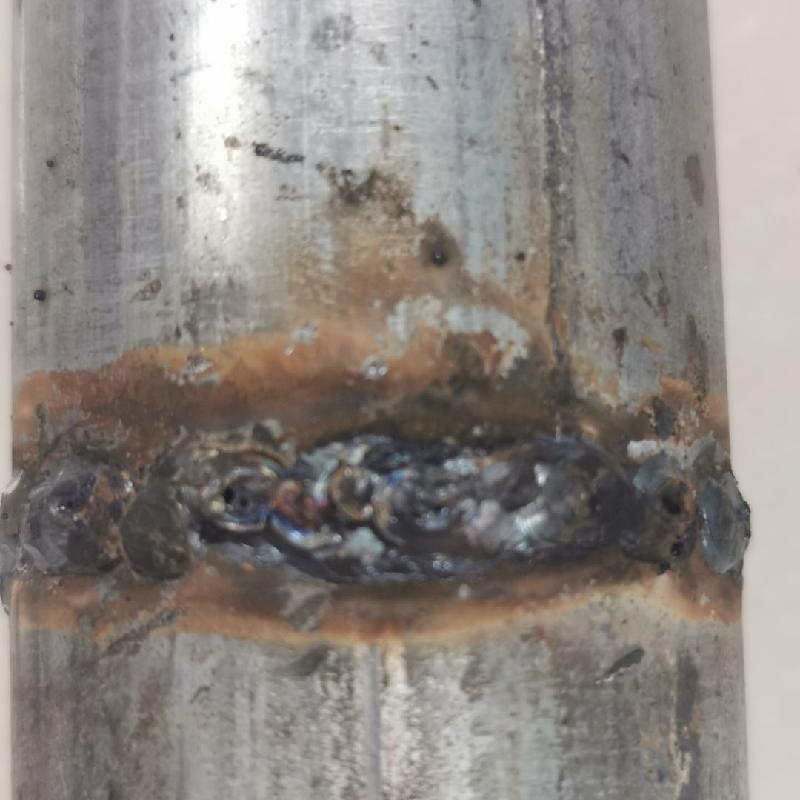Surface_pores: (657, 467, 693, 573), (208, 475, 254, 525), (48, 483, 88, 518)
crater: (203, 443, 493, 569)
wrong_size: (524, 440, 756, 583)
